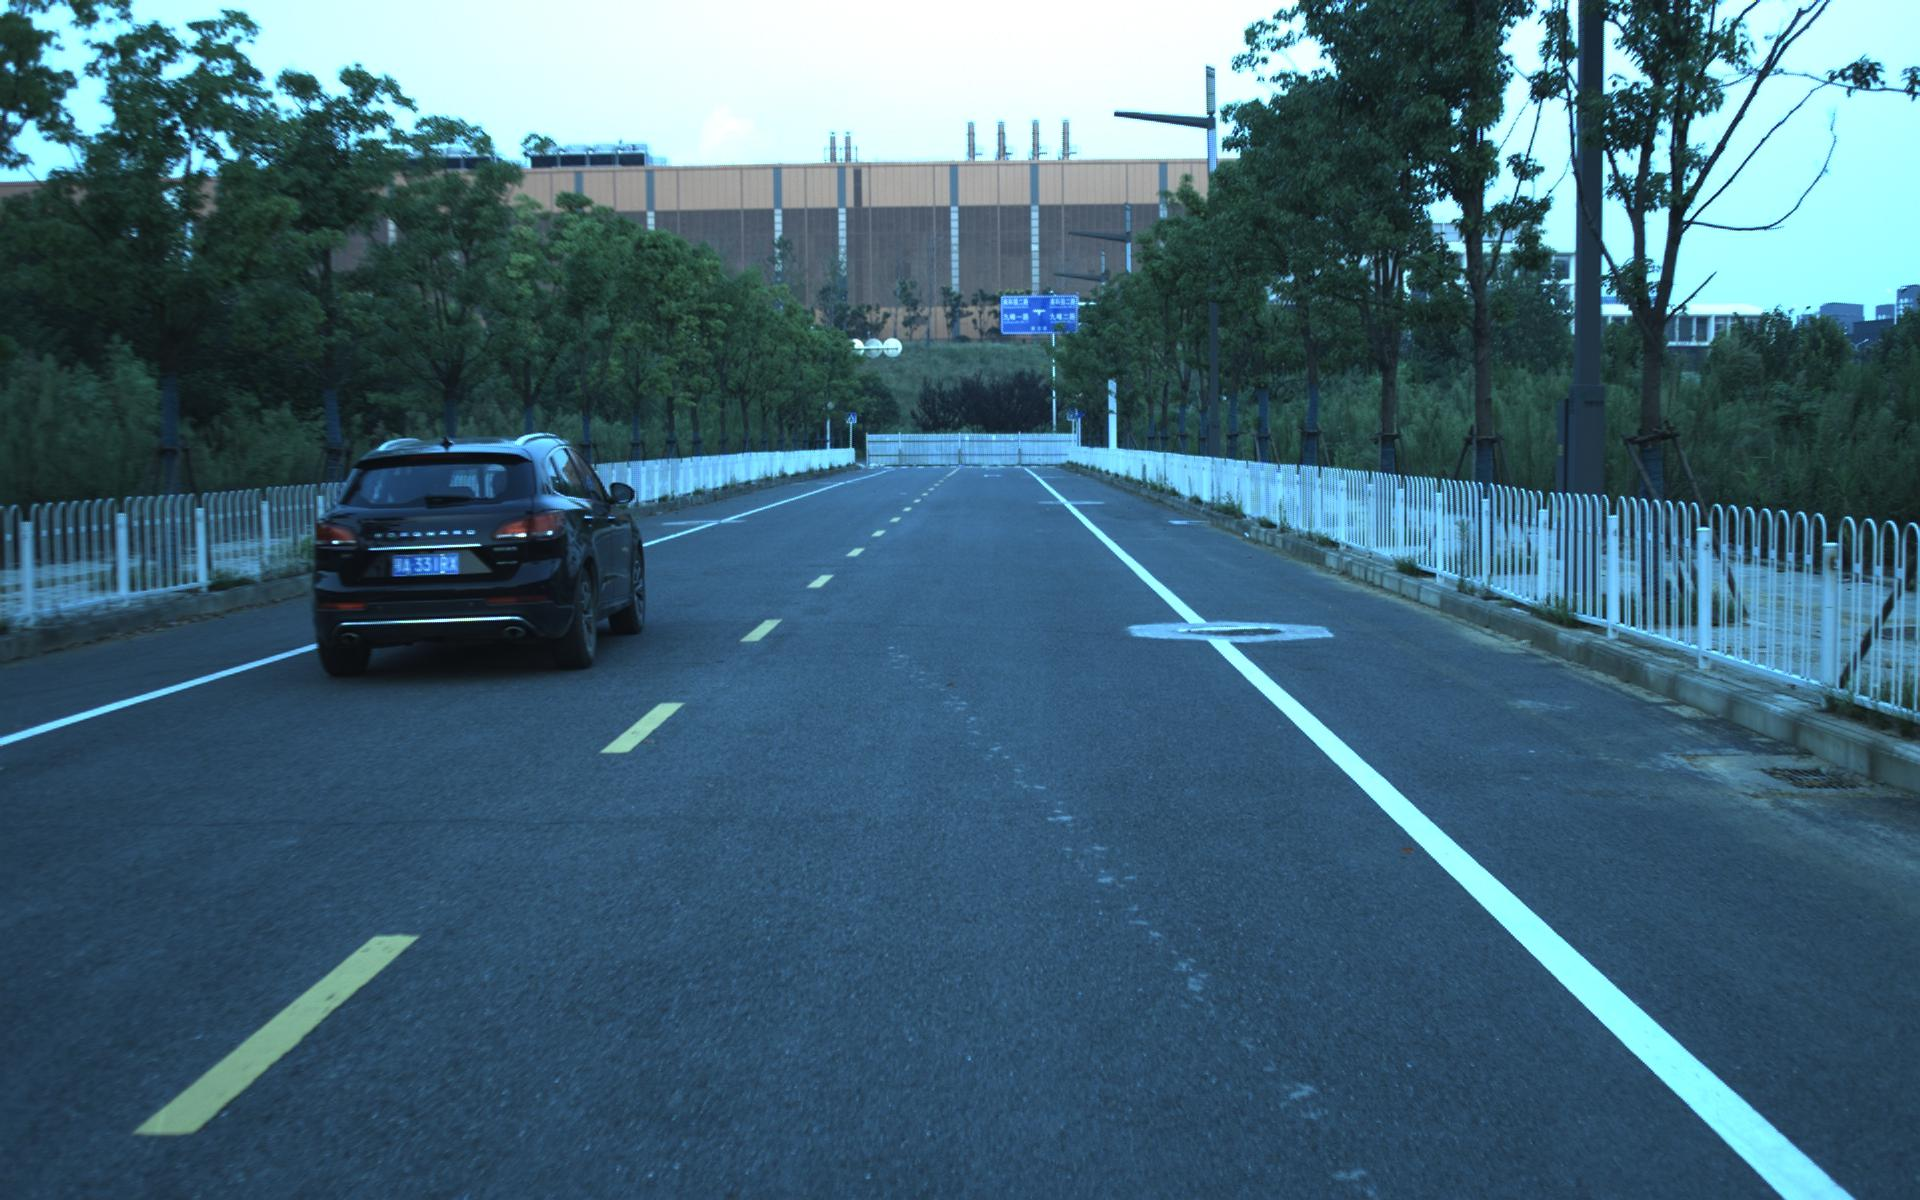Car: (294, 424, 652, 683)
